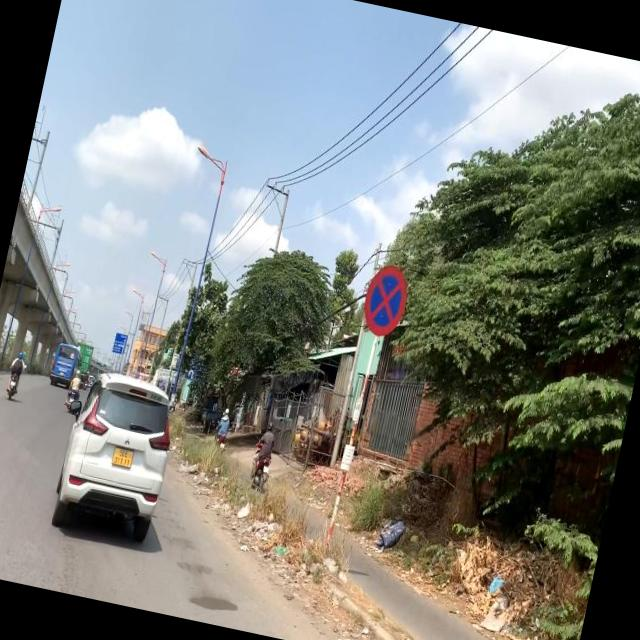P-130: (358, 262, 412, 340)
